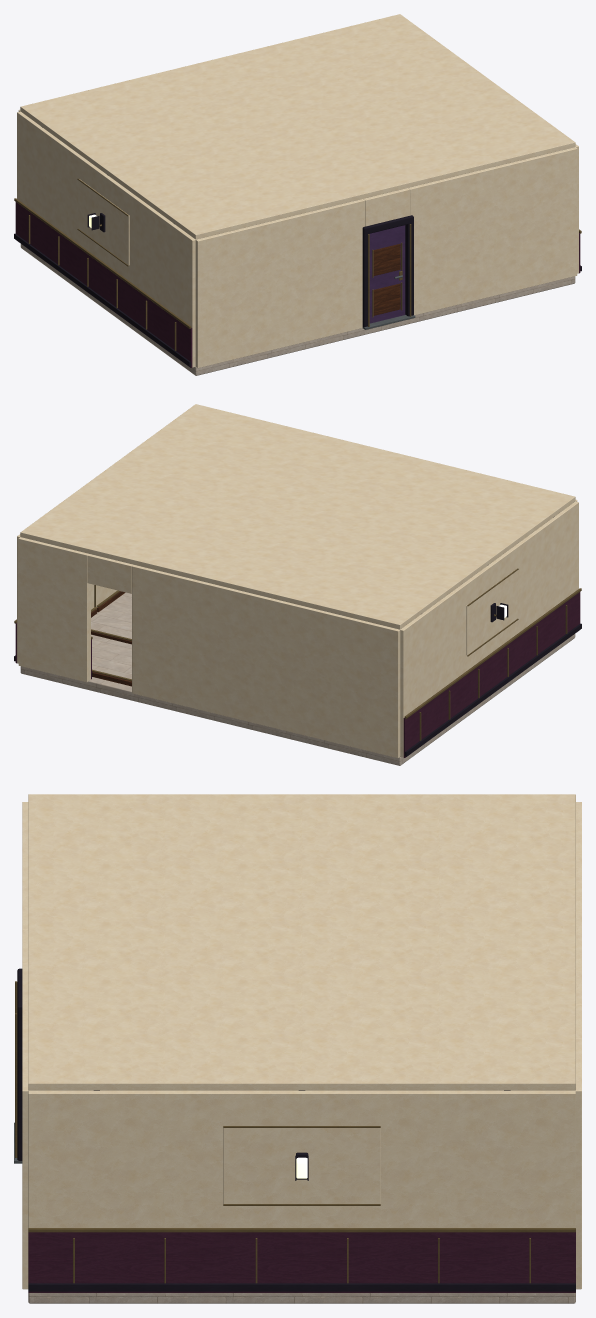
Rendered from explore3d__management_office.glb.
The picture shows the model from 3 angles, top to bottom: view 1: azimuth 30°, elevation 25°; view 2: azimuth 150°, elevation 25°; view 3: azimuth 270°, elevation 25°; orthographic projection. The views are drawn at different scales.
Visible parts, largest first — view 1: ceiling_surface.012, front_wall.038, front_wall.036, left_wall.028, left_wainscot.020, floor.013, left_upper_inset.020, management_office_leaf, front_wall.037, left_skirt.020, left_rail.020, management_office_jamb.001 (+3 smaller); view 2: ceiling_surface.012, back_wall.022, left_wall.028, back_wall.024, floor.013, left_wainscot.020, left_upper_inset.020, back_wall.023, left_skirt.020, left_rail.020, right_wall.028; view 3: ceiling_surface.012, right_wall.028, right_wainscot.020, right_upper_inset.020, floor.013, right_skirt.020, right_rail.020, front_wall.036, back_wall.024, back_wall.022, front_wall.038, management_office_jamb.001.
Part boxes in pixels (bbox=[...]): ceiling_surface.012: bbox=[20, 14, 575, 239]; front_wall.038: bbox=[195, 199, 364, 367]; front_wall.036: bbox=[408, 147, 577, 315]; left_wall.028: bbox=[17, 111, 195, 367]; left_wainscot.020: bbox=[15, 202, 192, 367]; floor.013: bbox=[20, 244, 575, 375]; left_upper_inset.020: bbox=[78, 179, 129, 265]; management_office_leaf: bbox=[369, 225, 405, 323]; front_wall.037: bbox=[363, 188, 409, 226]; left_skirt.020: bbox=[14, 233, 191, 366]; left_rail.020: bbox=[14, 198, 191, 328]; management_office_jamb.001: bbox=[405, 220, 413, 316]; ceiling_surface.012: bbox=[20, 404, 575, 629]; back_wall.022: bbox=[132, 565, 400, 757]; left_wall.028: bbox=[400, 501, 578, 757]; back_wall.024: bbox=[18, 537, 90, 682]; floor.013: bbox=[20, 592, 575, 765]; left_wainscot.020: bbox=[403, 592, 580, 757]; left_upper_inset.020: bbox=[466, 569, 517, 655]; back_wall.023: bbox=[87, 554, 133, 593]; left_skirt.020: bbox=[404, 623, 581, 756]; left_rail.020: bbox=[404, 588, 581, 718]; right_wall.028: bbox=[17, 534, 117, 663]; ceiling_surface.012: bbox=[28, 794, 575, 1090]; right_wall.028: bbox=[28, 1090, 575, 1227]; right_wainscot.020: bbox=[28, 1232, 575, 1292]; right_upper_inset.020: bbox=[223, 1128, 380, 1203]; floor.013: bbox=[28, 1293, 575, 1303]; right_skirt.020: bbox=[28, 1283, 575, 1291]; right_rail.020: bbox=[28, 1228, 575, 1232]; front_wall.036: bbox=[22, 963, 28, 1289]; back_wall.024: bbox=[575, 1038, 581, 1289]; back_wall.022: bbox=[576, 802, 581, 1004]; front_wall.038: bbox=[22, 802, 28, 929]; management_office_jamb.001: bbox=[17, 1015, 22, 1160].
Bounding box in the file's own units: 10.96 × 3.56 × 8.3.
Materials: 13 (12 with a texture image).
